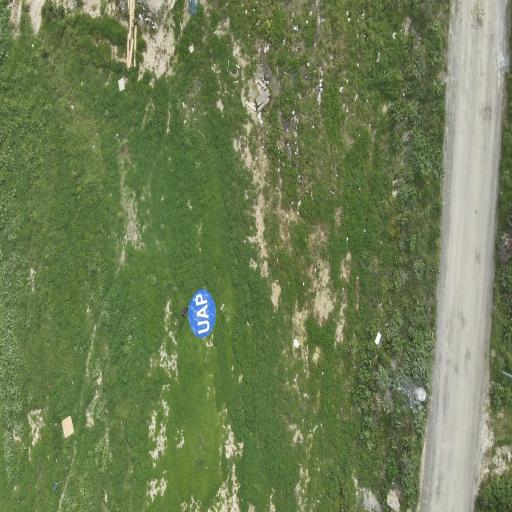person: (181, 308, 185, 317)
uap: (188, 289, 216, 337)
